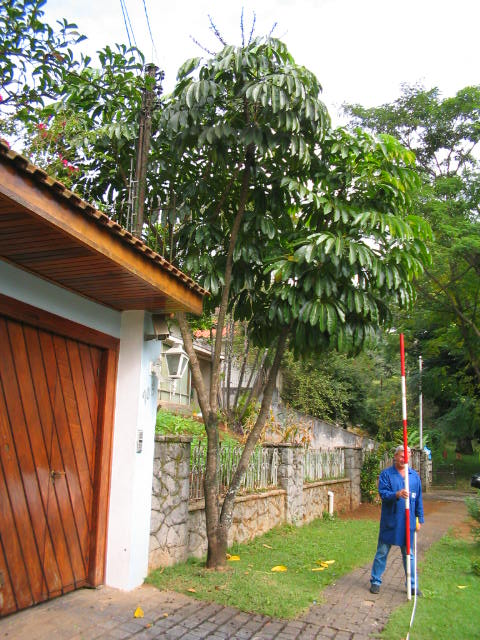crown: (153, 37, 431, 373)
stem: (190, 518, 243, 568)
stick: (390, 332, 424, 601)
tree: (149, 36, 432, 570)
